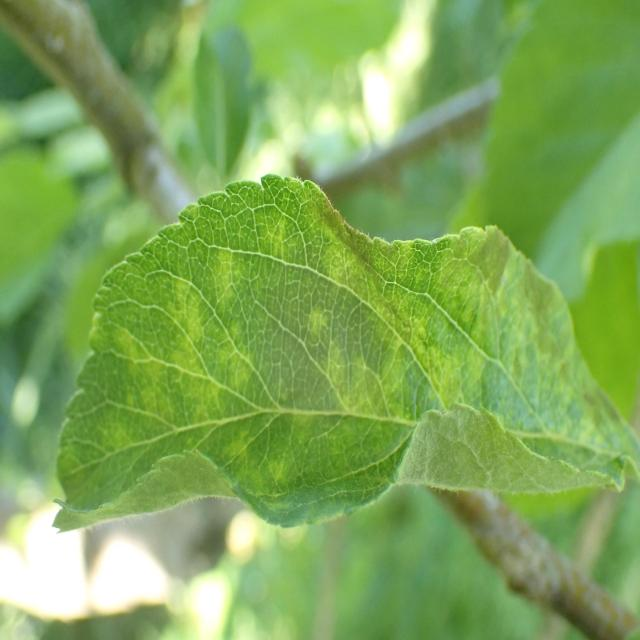scab: (138, 185, 640, 510)
